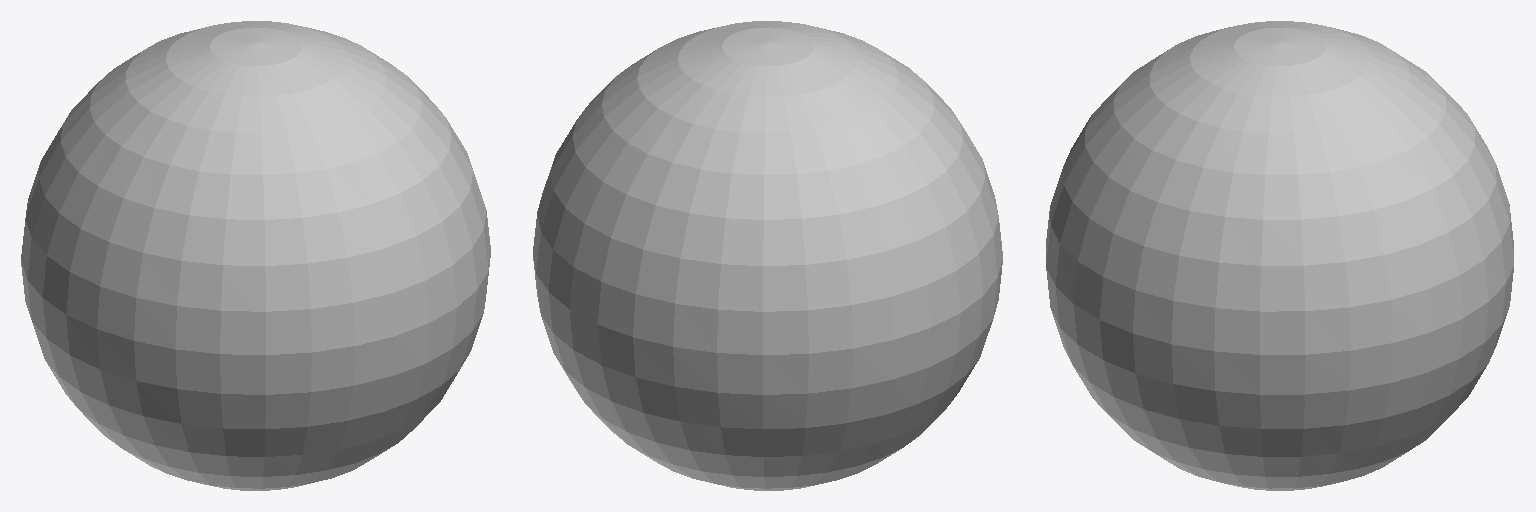
File: Jupiter.obj
3 renders of one model, left to right at view 1: azimuth 30°, elevation 25°; view 2: azimuth 150°, elevation 25°; view 3: azimuth 270°, elevation 25°, orthographic.
Visible parts, largest first — view 1: 29; view 2: 29; view 3: 29.
Boxes of the visible parts, box(x1,y1,x2,y2) form: 29: box(21, 21, 490, 490); 29: box(533, 21, 1002, 490); 29: box(1046, 21, 1513, 490).
Size of the model in its own units: 5.72 by 5.74 by 5.72.